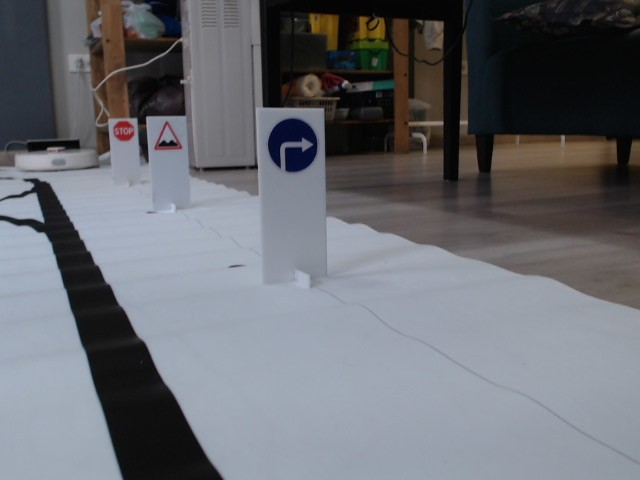Nerov: (154, 119, 182, 150)
Right: (266, 117, 318, 174)
Stop: (113, 120, 135, 142)
